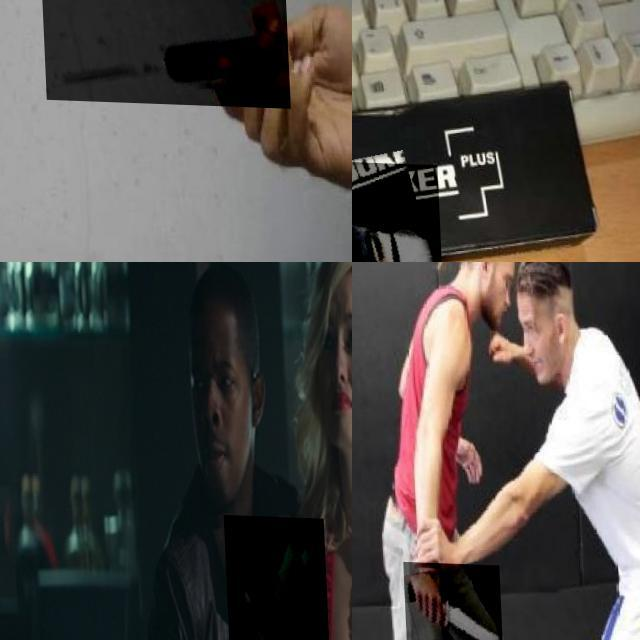-: (39, 0, 288, 105), (352, 154, 497, 262), (399, 560, 498, 640)
gun-knife-thesis - v11 Yolov5 augmented: (220, 512, 328, 640)
